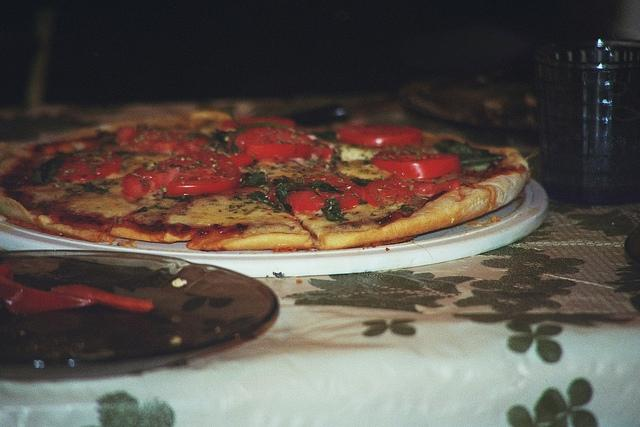tomato: (266, 175, 362, 214), (167, 150, 240, 196), (114, 125, 211, 156), (372, 150, 462, 183), (234, 128, 330, 153), (336, 124, 422, 147), (55, 153, 122, 182), (245, 143, 332, 163), (364, 176, 416, 206), (392, 180, 461, 194), (124, 170, 156, 200), (222, 117, 296, 129)
